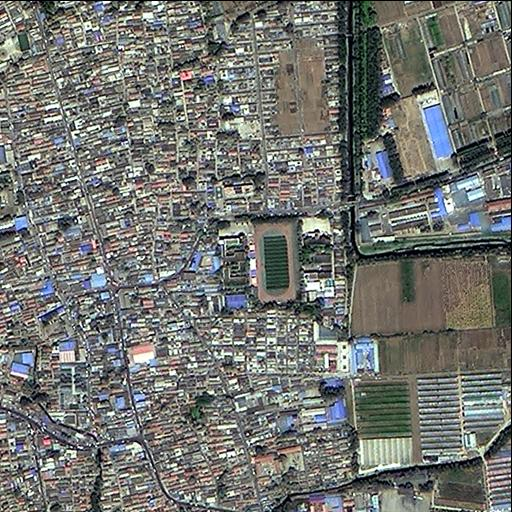school: (217, 218, 302, 306), (301, 211, 333, 265)
